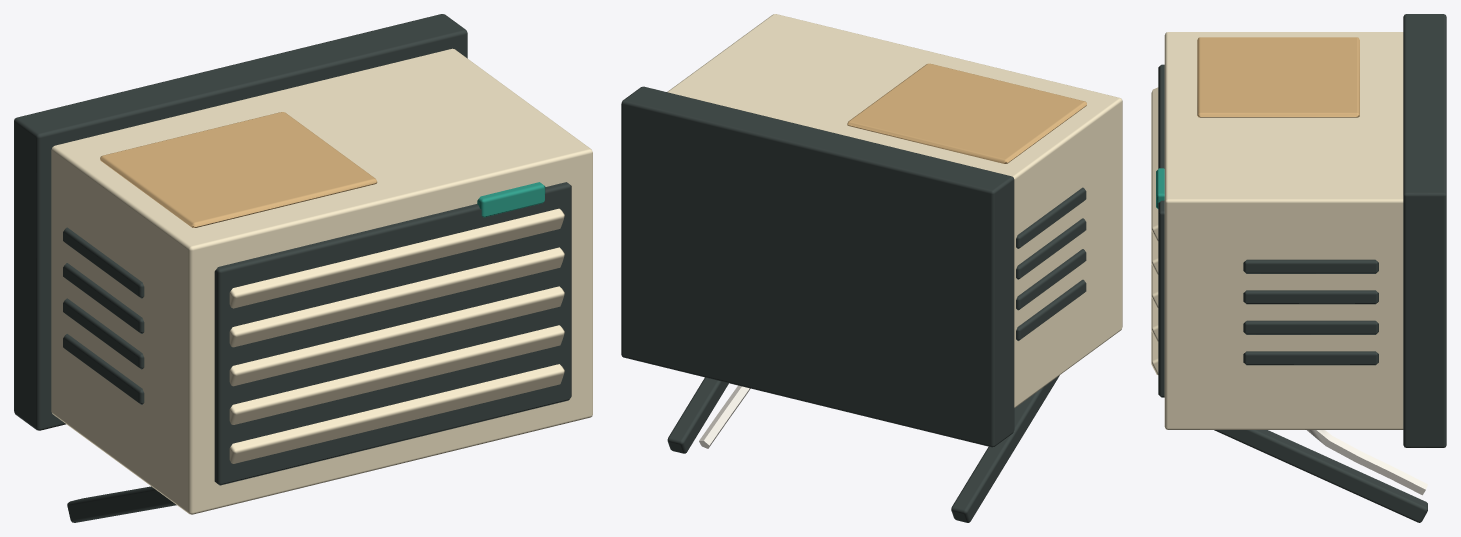
Rendered from prop_ac_unit.glb.
3 renders of one model, left to right at view 1: azimuth 30°, elevation 25°; view 2: azimuth 150°, elevation 25°; view 3: azimuth 270°, elevation 25°, orthographic. The views are drawn at different scales.
Visible parts, largest first — view 1: prop_ac_unit; view 2: prop_ac_unit; view 3: prop_ac_unit.
Part boxes in pixels (box(x1,y1,x2,y2)): prop_ac_unit: box(14, 14, 592, 522); prop_ac_unit: box(621, 14, 1122, 522); prop_ac_unit: box(1151, 14, 1446, 522).
Size of the model in its own units: 0.79 by 0.7083 by 0.5449.
